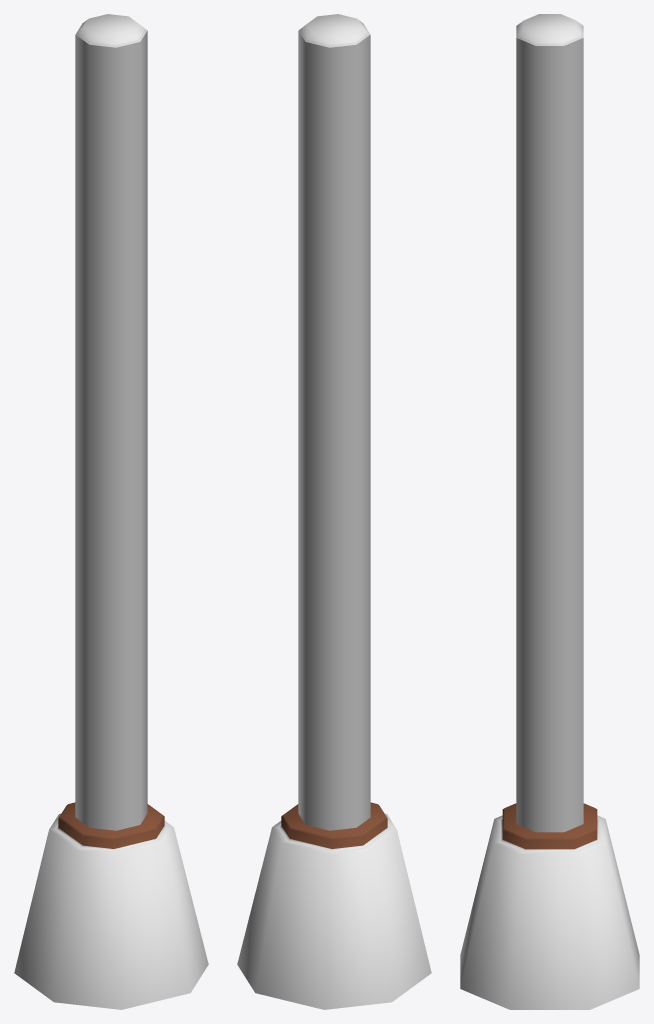
The model's file is Post.fbx.
3 views of the same model, side by side, from view 1: azimuth 30°, elevation 25°; view 2: azimuth 150°, elevation 25°; view 3: azimuth 270°, elevation 25° (orthographic).
Parts seen in each view (by area): view 1: Post; view 2: Post; view 3: Post.
Boxes of the visible parts, box(x1,y1,x2,y2) form: Post: box(14, 14, 208, 1009); Post: box(237, 14, 431, 1009); Post: box(460, 14, 639, 1009).
Size of the model in its own units: 28.23 by 164 by 28.23.
